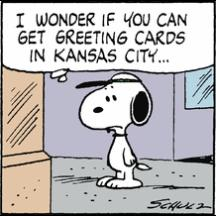snoopy: (74, 72, 154, 190)
